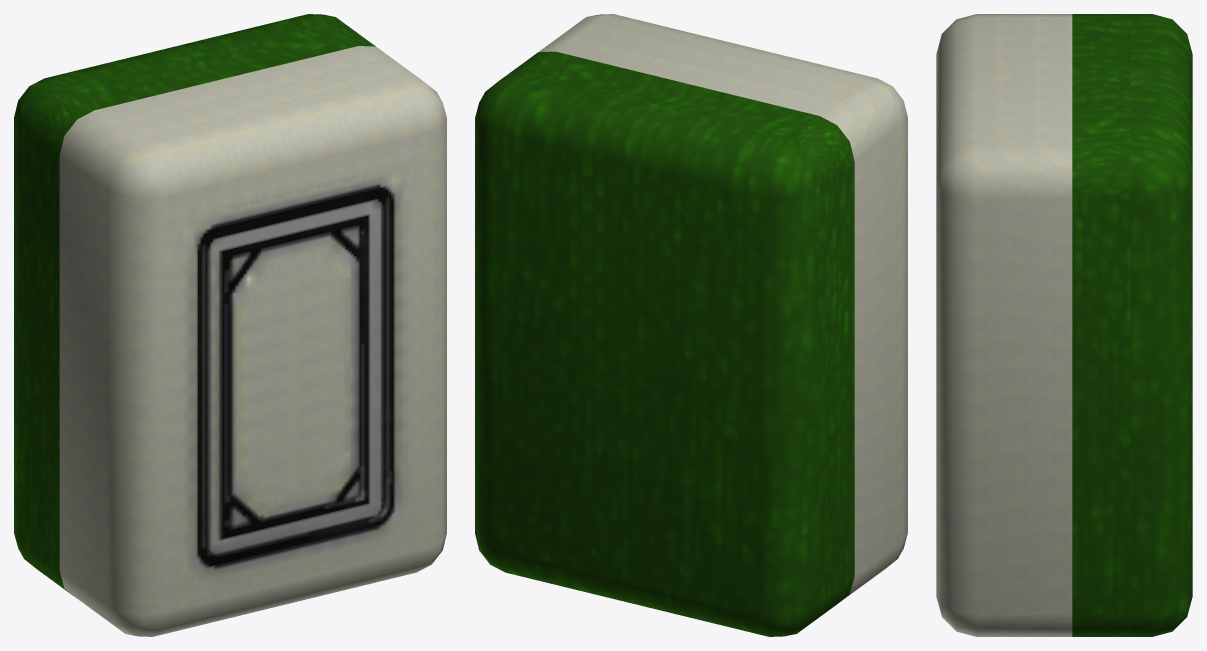
The model's file is majiangpai.FBX.
3 views of the same model, side by side, from view 1: azimuth 30°, elevation 25°; view 2: azimuth 150°, elevation 25°; view 3: azimuth 270°, elevation 25° (orthographic).
Visible parts, largest first — view 1: baiban_Model; view 2: baiban_Model; view 3: baiban_Model.
Part boxes in pixels (<box>): baiban_Model: <box>14,14,446,636</box>; baiban_Model: <box>475,14,907,636</box>; baiban_Model: <box>936,14,1192,636</box>.
Size of the model in its own units: 2.57 by 3.59 by 1.71.
